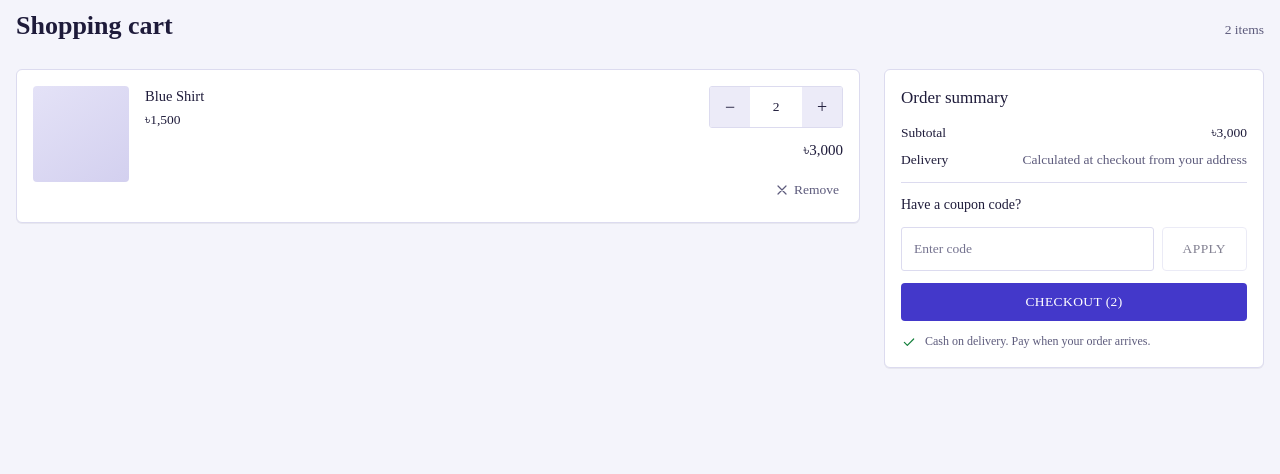
Test: cart promotions › applies a typed code and shows the applied offer
This screenshot has width=1280, height=474.
Step 1. Type "eid10" into the field named "Coupon code" → (1027, 249), box [901, 227, 1154, 271]
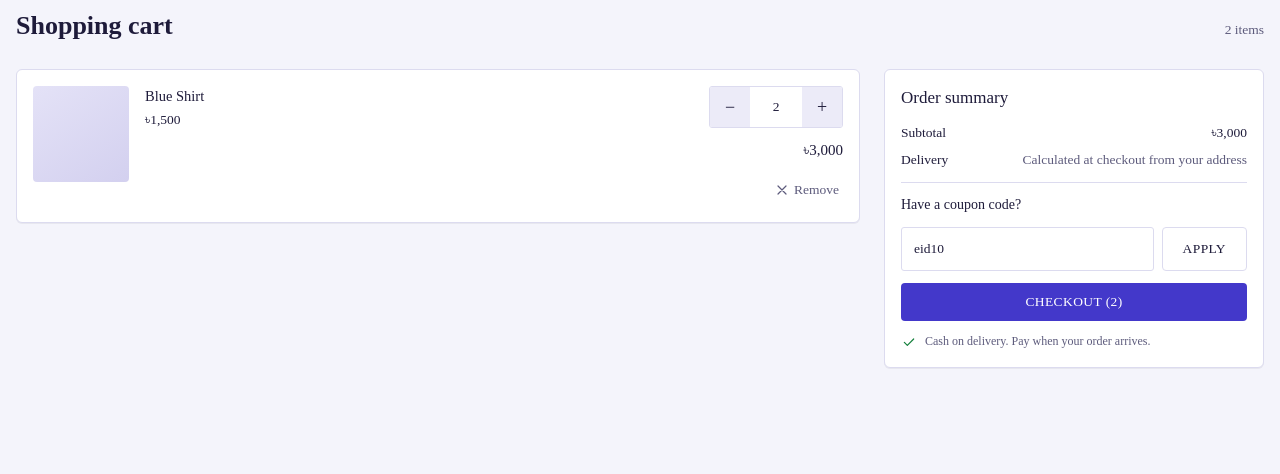
Step 2. Click the button "Apply" → (1204, 249), box [1162, 227, 1247, 271]
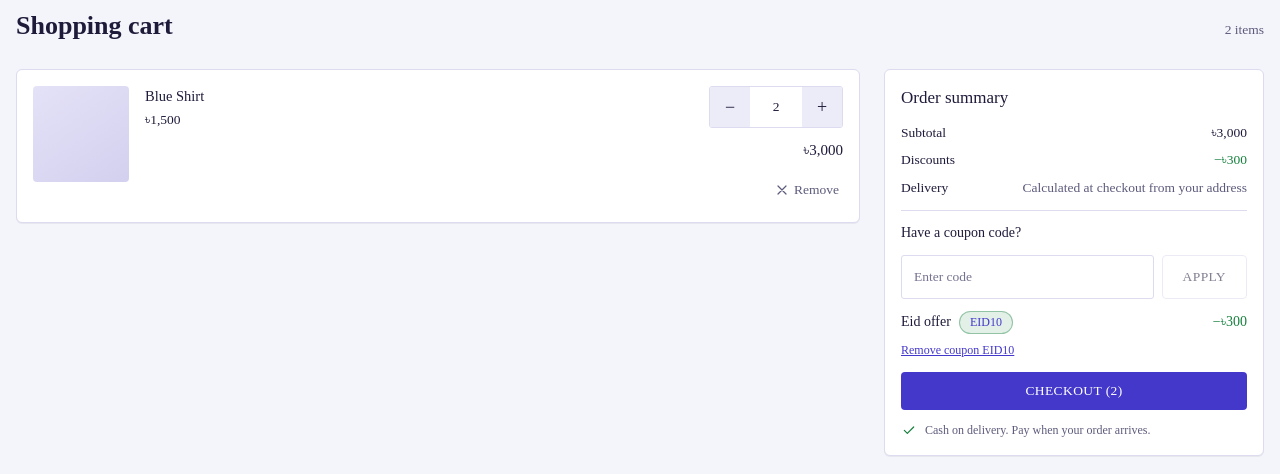
Now the text "Eid offer" is shown, box [901, 314, 951, 329]
Now the button "Remove coupon EID10" is shown, box [901, 342, 1247, 360]
